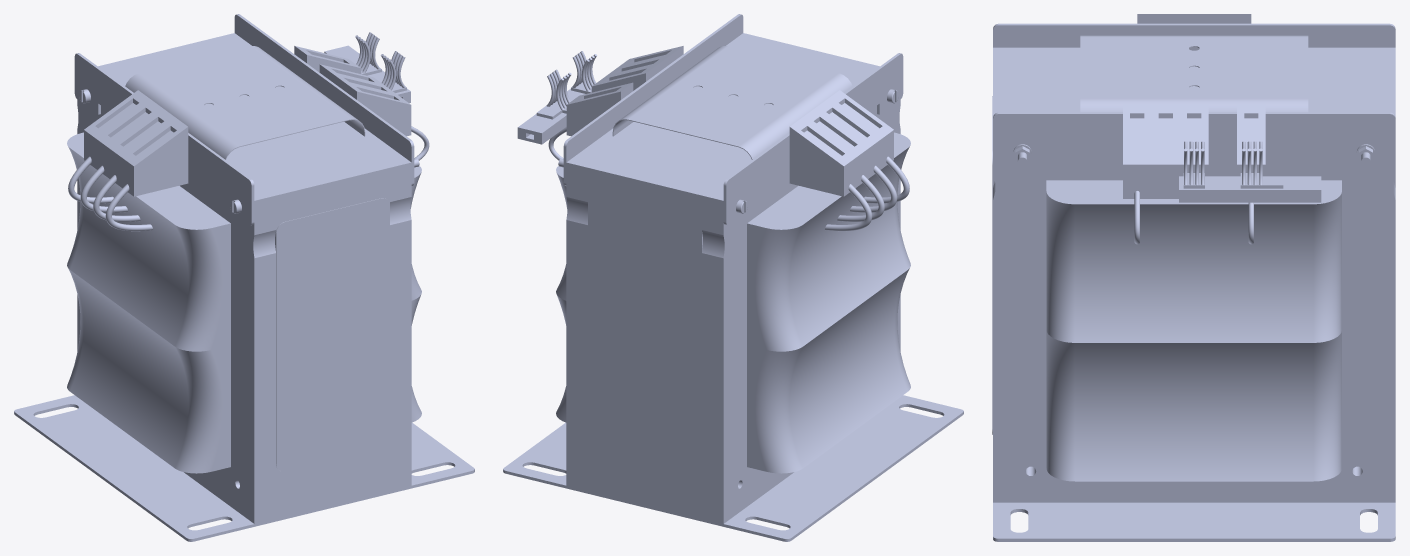
The model's file is GP2000-A01CC.MQY.glb.
3 views of the same model, side by side, from view 1: azimuth 30°, elevation 25°; view 2: azimuth 150°, elevation 25°; view 3: azimuth 270°, elevation 25° (orthographic). The views are drawn at different scales.
Visible parts, largest first — view 1: Solid21, Solid11, Solid12, Solid1, Solid3, Solid2, Solid14, Solid26, Solid16, Solid20, Solid15, Solid23 (+3 smaller); view 2: Solid21, Solid11, Solid12, Solid1, Solid3, Solid2, Solid16, Solid26, Solid14, Solid15, Solid20, Solid22 (+5 smaller); view 3: Solid21, Solid26, Solid10, Solid1, Solid2, Solid3, Solid22, Solid13, Solid19, Solid23, Solid27.
Boxes of the visible parts, x1,y1,x2,y2 form: Solid21: (77, 33, 411, 523); Solid11: (67, 132, 230, 351); Solid12: (67, 268, 230, 473); Solid1: (14, 395, 474, 541); Solid3: (74, 53, 254, 225); Solid2: (234, 14, 414, 185); Solid14: (121, 117, 188, 196); Solid26: (294, 46, 429, 300); Solid16: (84, 90, 150, 168); Solid20: (109, 108, 175, 186); Solid15: (96, 99, 162, 177); Solid23: (349, 32, 381, 75); Solid21: (566, 33, 900, 523); Solid11: (747, 132, 910, 351); Solid12: (747, 268, 910, 473); Solid1: (503, 395, 963, 541); Solid3: (723, 53, 903, 225); Solid2: (563, 14, 743, 185); Solid16: (789, 117, 856, 196); Solid26: (548, 46, 683, 300); Solid14: (827, 90, 893, 168); Solid15: (802, 108, 868, 186); Solid20: (815, 99, 881, 177); Solid22: (517, 88, 585, 144); Solid21: (992, 35, 1395, 502); Solid26: (1046, 104, 1341, 342); Solid10: (1046, 330, 1341, 481); Solid1: (993, 502, 1395, 541); Solid2: (993, 112, 1395, 165); Solid3: (993, 23, 1395, 47); Solid22: (1179, 176, 1321, 202); Solid13: (1151, 104, 1179, 198); Solid19: (1180, 104, 1208, 176); Solid23: (1240, 141, 1283, 188); Solid27: (1183, 141, 1204, 188).
Size of the model in its own units: 0.1855 by 0.1981 by 0.1796.
